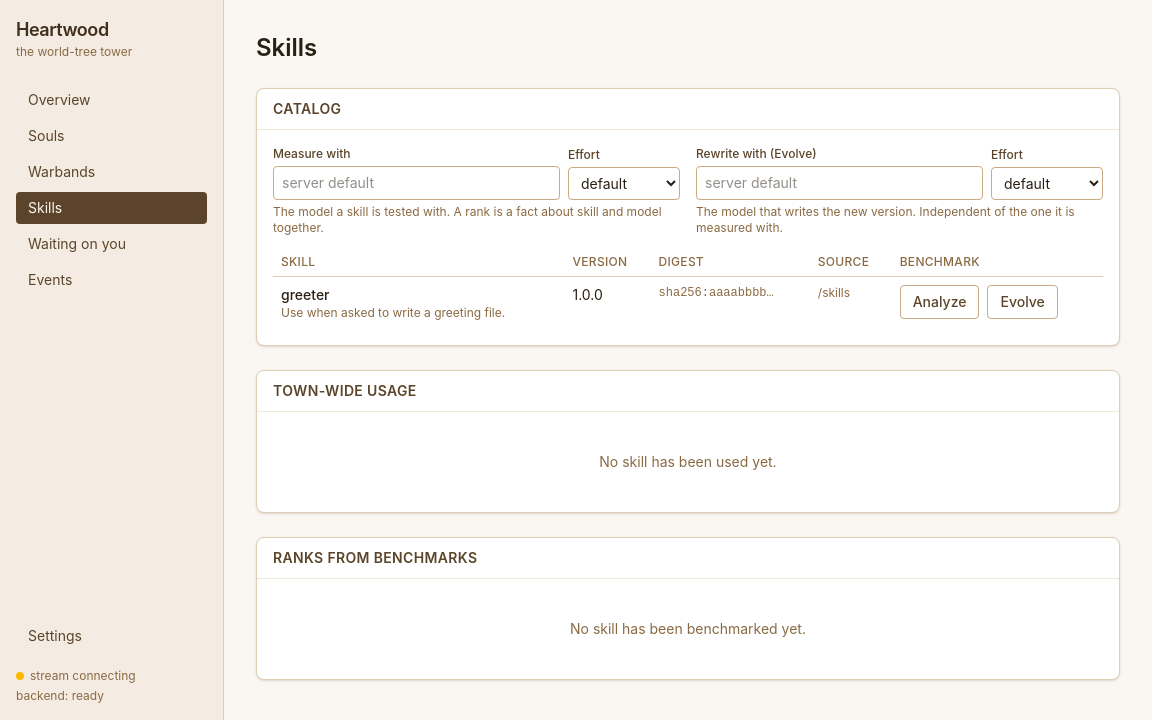
Scenario: pages › skills catalog actions › keeps showing the evolution result after the promotion changes the skill's digest
The width and height of the screenshot is (1152, 720).
Click the button "Evolve": (1023,302) [988,285,1058,319]
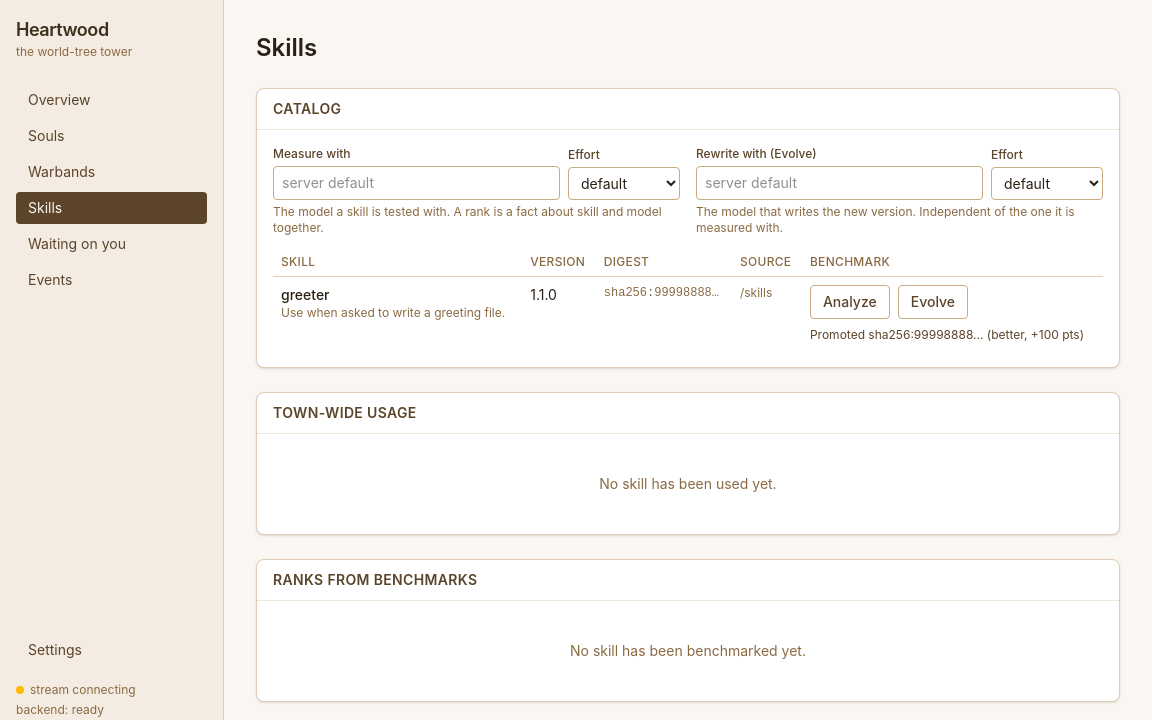
Now the text "1.1.0" is shown, box [522,276,596,351]
Now the text "Promoted sha256:99998888… (better, +100 pts)" is shown, box [810,327,1095,343]
